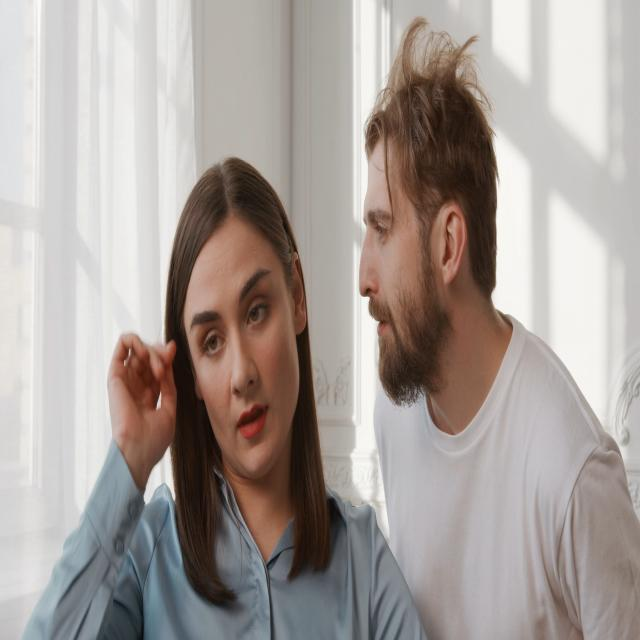Convinsing: (347, 40, 498, 462)
frustrated: (172, 217, 306, 486)
